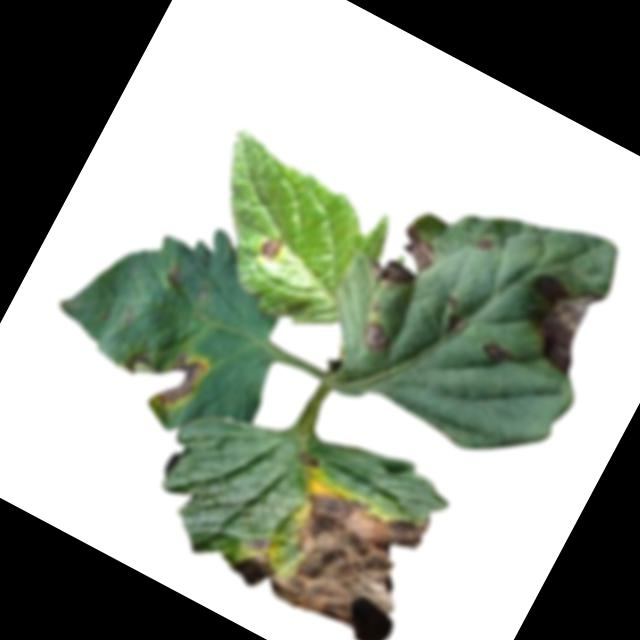Early_blight: (222, 444, 451, 640), (501, 264, 611, 382), (108, 325, 212, 424), (361, 216, 445, 304), (433, 293, 475, 335), (352, 318, 393, 358), (477, 338, 514, 373), (257, 234, 285, 264), (160, 263, 186, 290), (471, 234, 493, 257)
